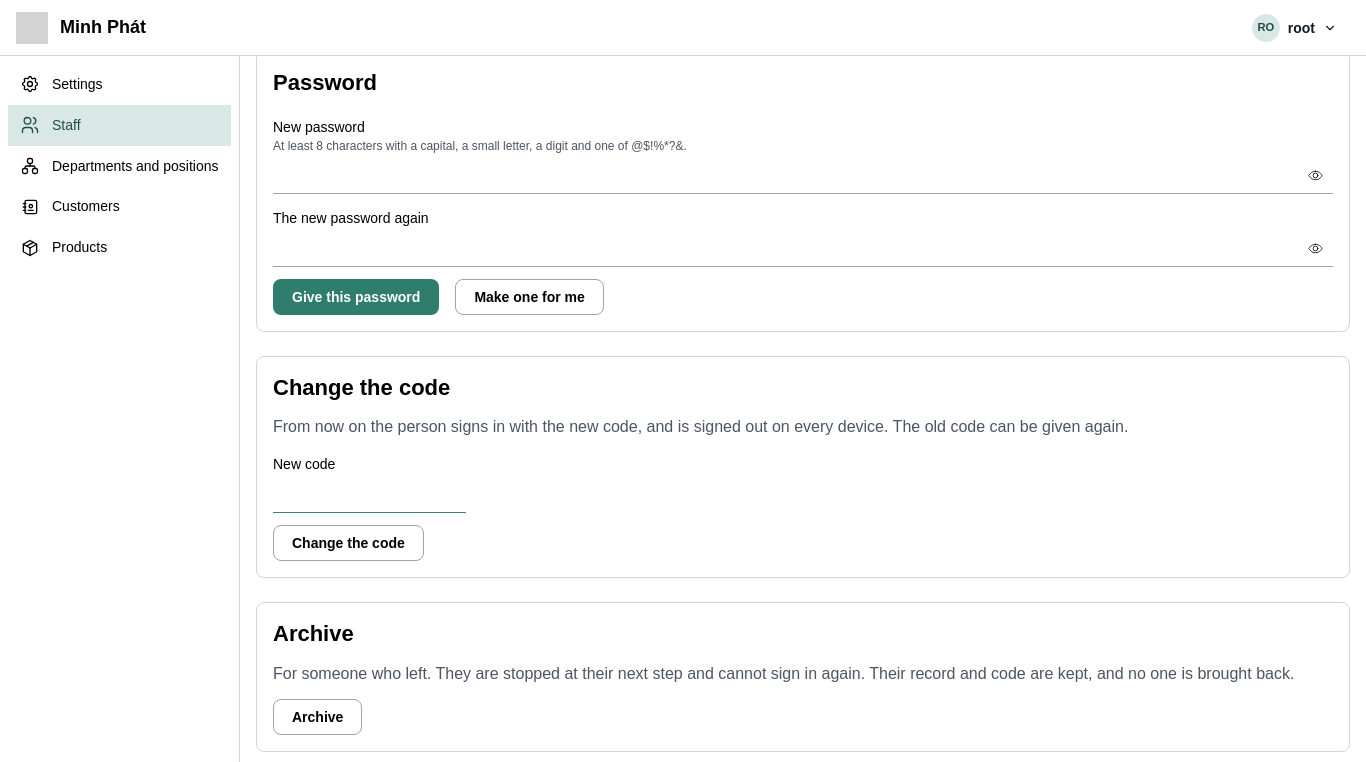
Test: a code changed › The root changes a person’s code: from then on they sign in with the new one, they are signed out everywhere, and nothing that names the person changes
(page scrolled)
Type "nv-12" into the field labelled "New code" at (370, 495), box top-left (273, 477), bottom-right (466, 513)
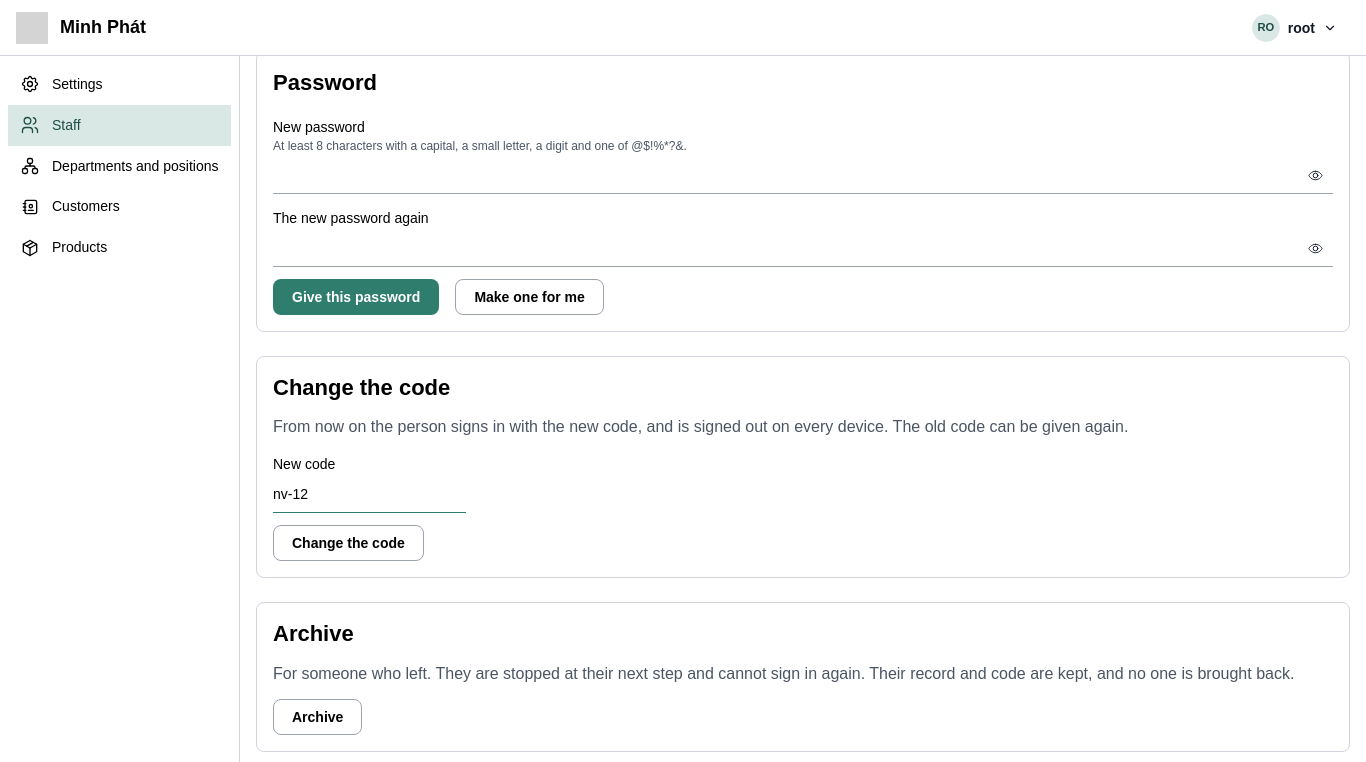
Click the button "Change the code" at (348, 543), box top-left (273, 525), bottom-right (424, 561)
(page scrolled)
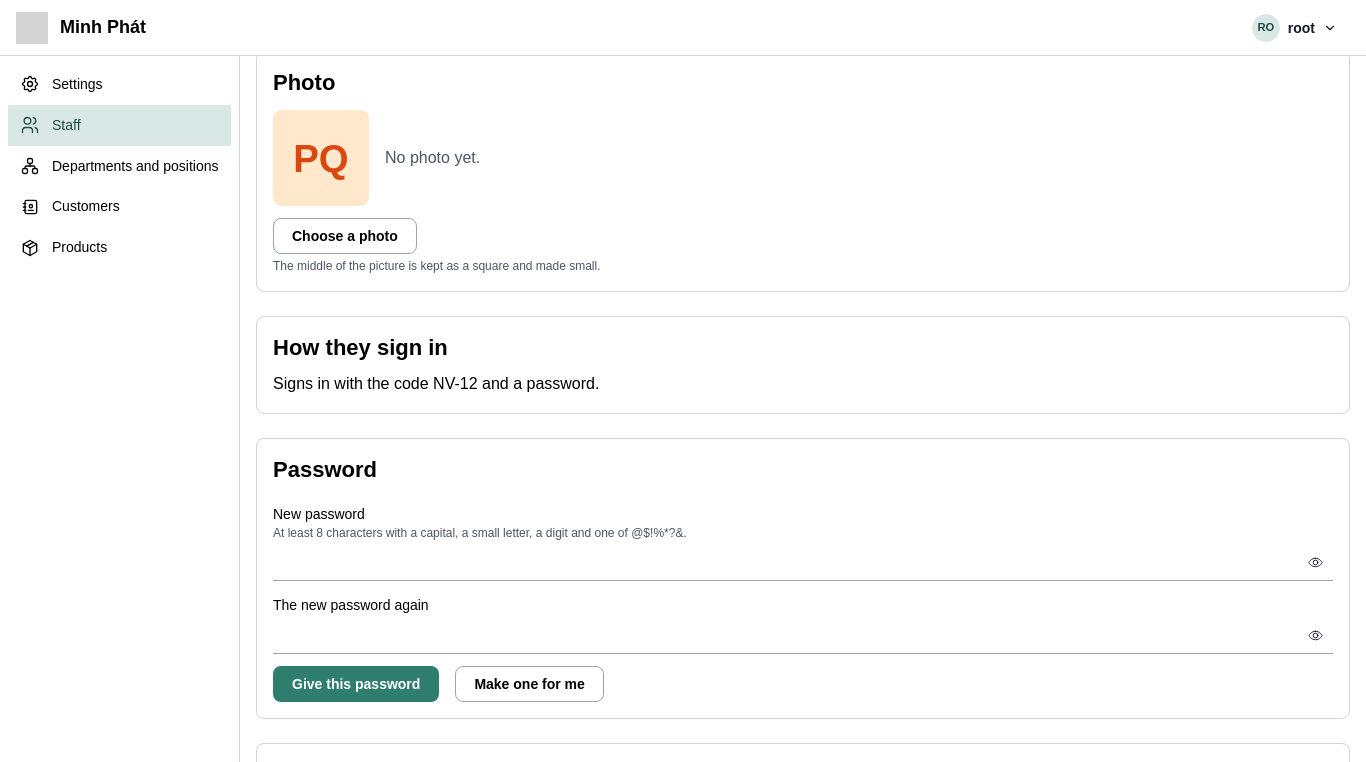
Now the text "Signs in with the code NV-12 and a password." is shown, box top-left (273, 375), bottom-right (599, 392)
